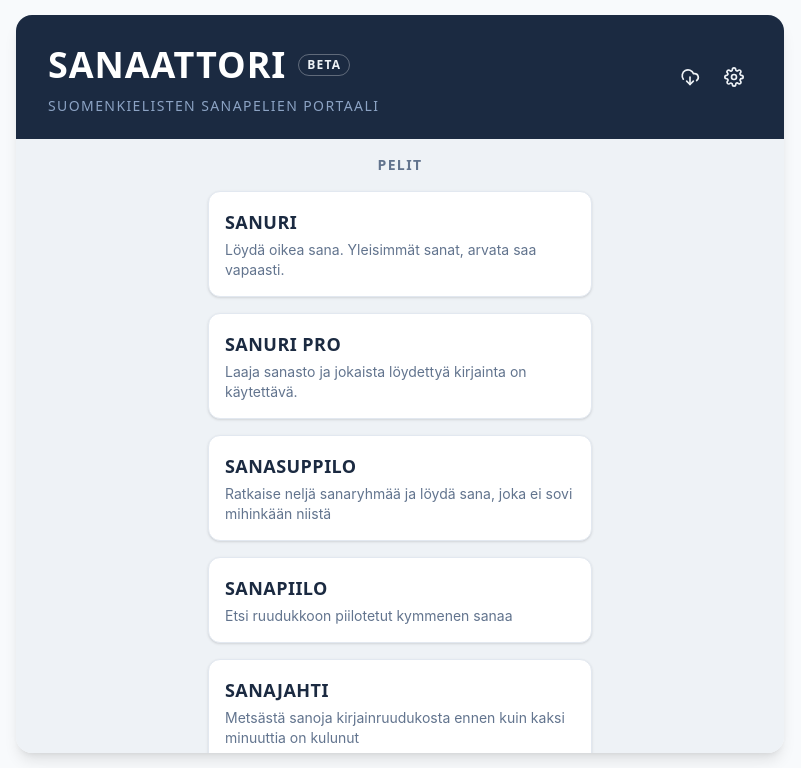
Test: App › navigates from the portal home to Sanuri Pro and back
Click the link "Sanuri Pro". click: (400, 366)
box: [208,313,592,419]
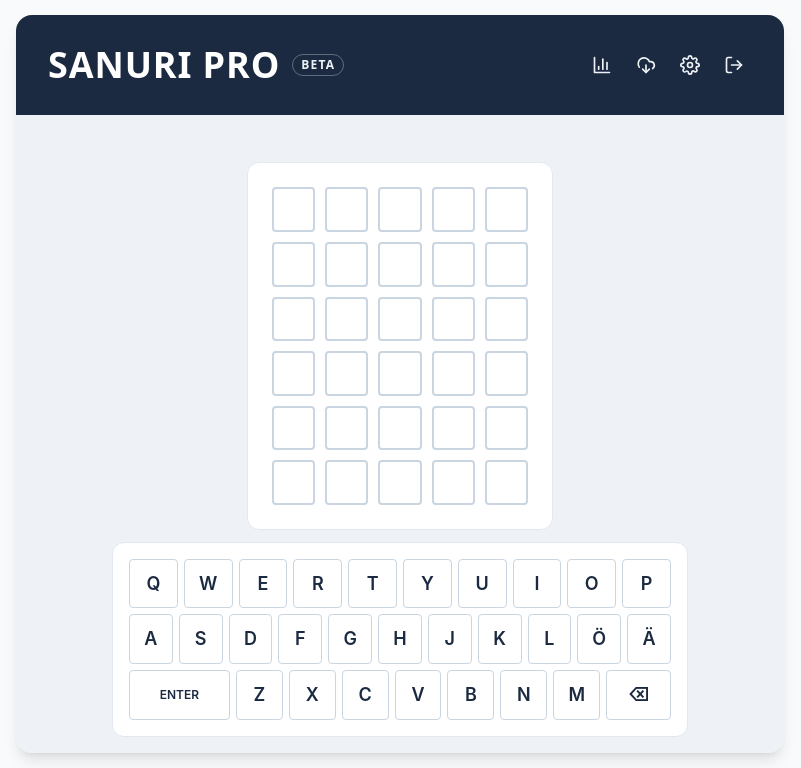
expect the button "Q" is enabled: met, box [129,559,178,608]
expect the table is shown: met, box [247,162,553,530]
expect the heading "Sanuri Pro" is shown: met
Click the link "Sanuri Pro". click: (164, 65)
box: [48,40,280,89]
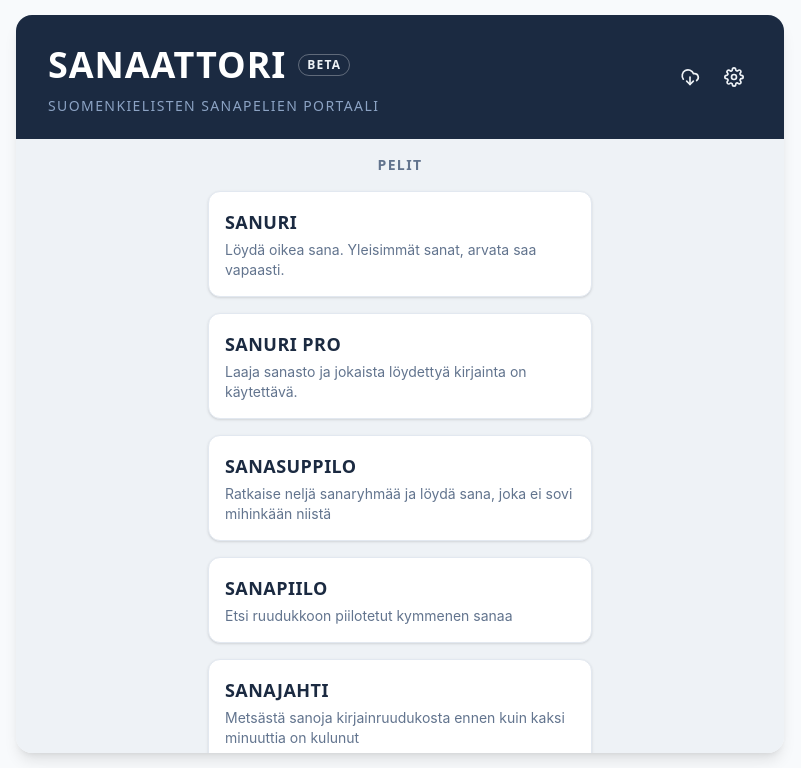
expect the link "Sanuri" is shown: met, box [208,191,592,297]
